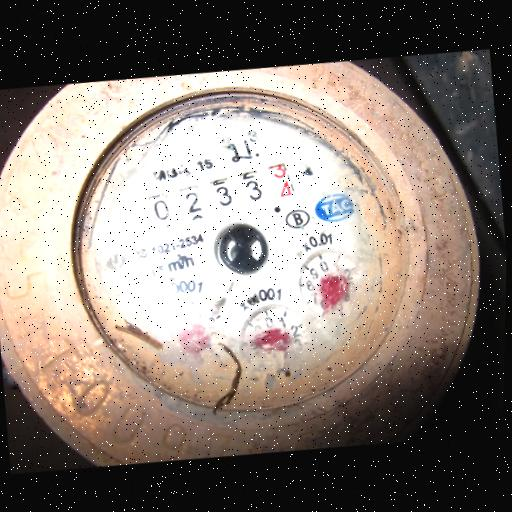0: (148, 192, 176, 231)
2: (179, 184, 208, 223)
3: (266, 159, 297, 201), (209, 175, 239, 216), (237, 167, 267, 208)
border_water_meter_number: (145, 155, 300, 234)
